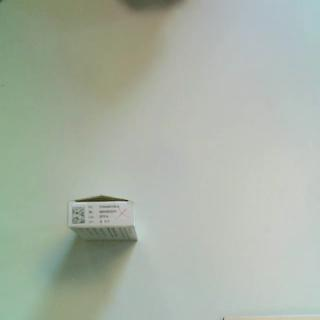oxycontin5mg: (66, 194, 140, 244)
